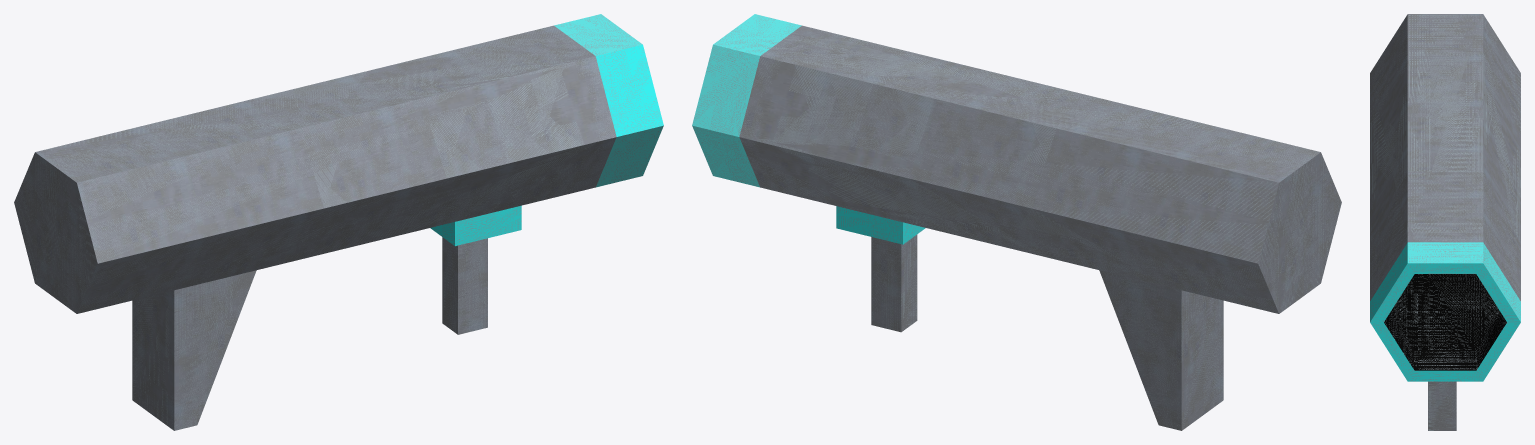
Rendered from bazooka.dae.
The picture shows the model from 3 angles, left to right: view 1: azimuth 30°, elevation 25°; view 2: azimuth 150°, elevation 25°; view 3: azimuth 270°, elevation 25°; orthographic projection. The views are drawn at different scales.
Parts seen in each view (by area): view 1: bazooka (×5); view 2: bazooka (×4); view 3: bazooka (×6).
Boxes of the visible parts, x1,y1,x2,y2 form: bazooka (×5): (14, 14, 663, 430); bazooka (×4): (692, 14, 1341, 430); bazooka (×6): (1370, 14, 1520, 430).
Bounding box in the file's own units: 295 × 75.59 × 136.
Materials: 5 (1 with a texture image).
